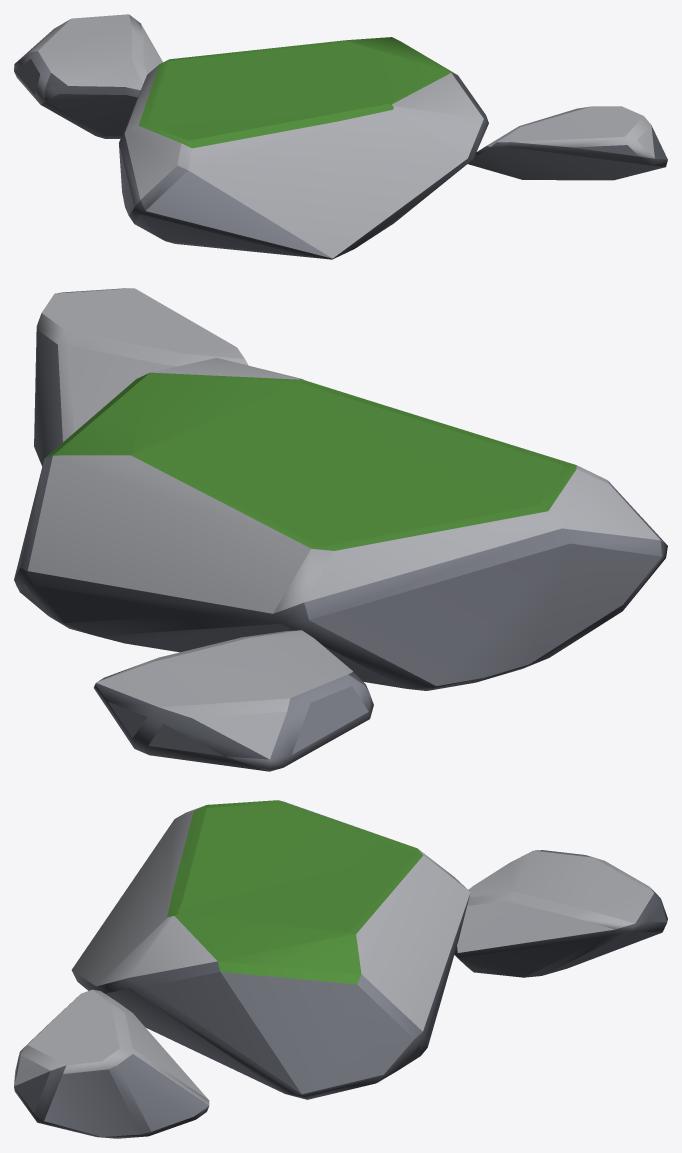
The model's file is Rock_06.glb.
3 renders of one model, top to bottom at view 1: azimuth 30°, elevation 25°; view 2: azimuth 150°, elevation 25°; view 3: azimuth 270°, elevation 25°, orthographic. The views are drawn at different scales.
Parts seen in each view (by area): view 1: Rock_06; view 2: Rock_06; view 3: Rock_06.
Part boxes in pixels (box(x1,y1,x2,y2)): Rock_06: box(14, 14, 667, 259); Rock_06: box(14, 288, 667, 771); Rock_06: box(14, 800, 667, 1138).
Bounding box in the file's own units: 3.82 × 0.7973 × 3.98.
